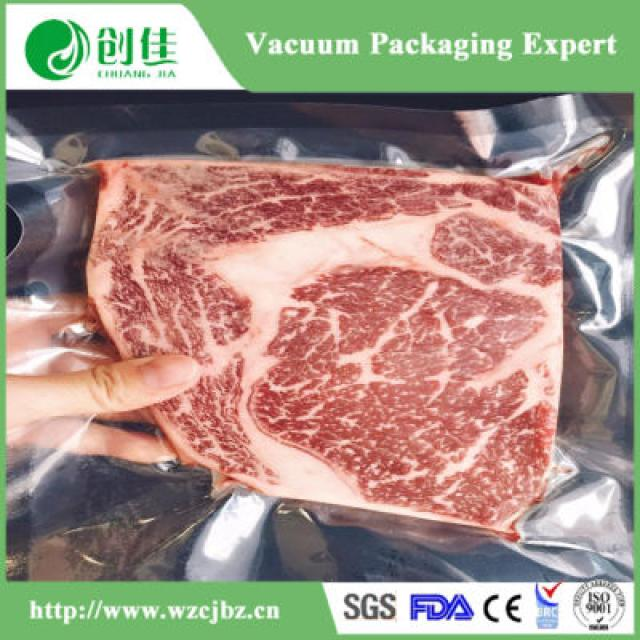pork: (30, 100, 607, 548)
